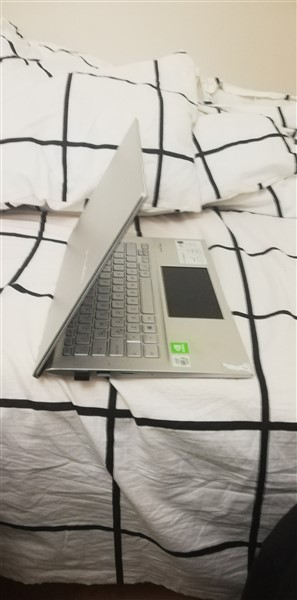laptop: (35, 113, 260, 392)
